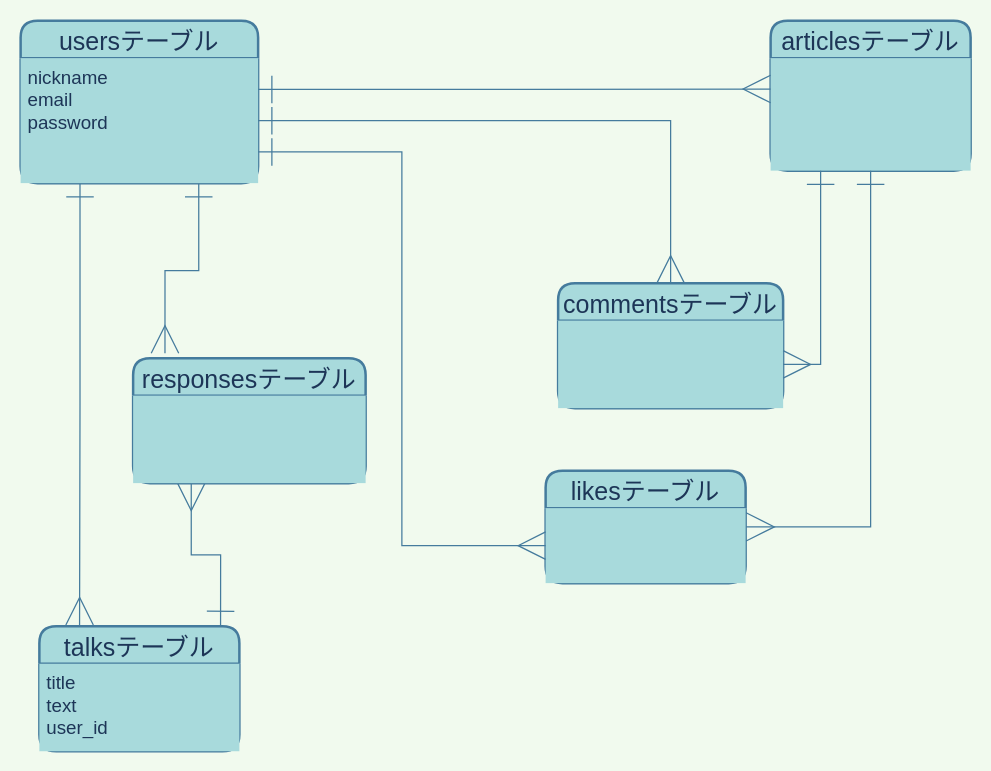
This 991x771 diagram has some shape labels left out. The shapes that lost their labels are listed below. From the top down, each one's centre as x and y in pixels, then its label:
pixel 870 114: title text category_id user_id
pixel 670 364: text user_id article_id
pixel 248 438: text user_id talk_id
pixel 645 545: user_id article_id
